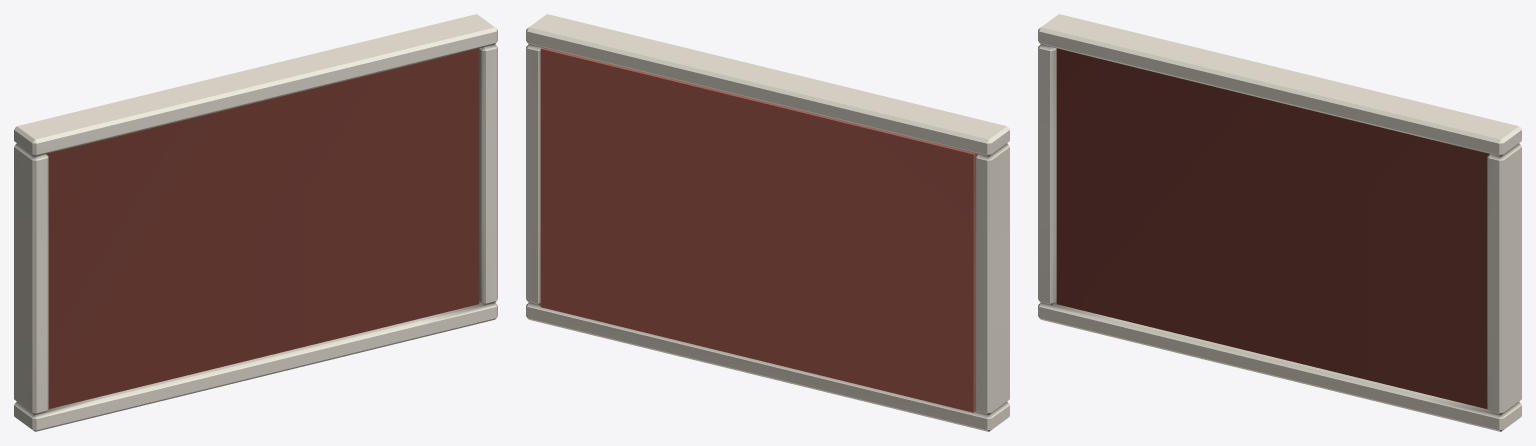
File: signboard.glb
3 views of the same model, side by side, from view 1: azimuth 30°, elevation 25°; view 2: azimuth 150°, elevation 25°; view 3: azimuth 330°, elevation 25° (orthographic).
Visible parts, largest first — view 1: PART; view 2: PART; view 3: PART.
Boxes of the visible parts, <box> form: PART: <box>14,14,497,431</box>; PART: <box>526,14,1009,431</box>; PART: <box>1038,14,1521,431</box>.
Size of the model in its own units: 1 by 0.6 by 0.08.
